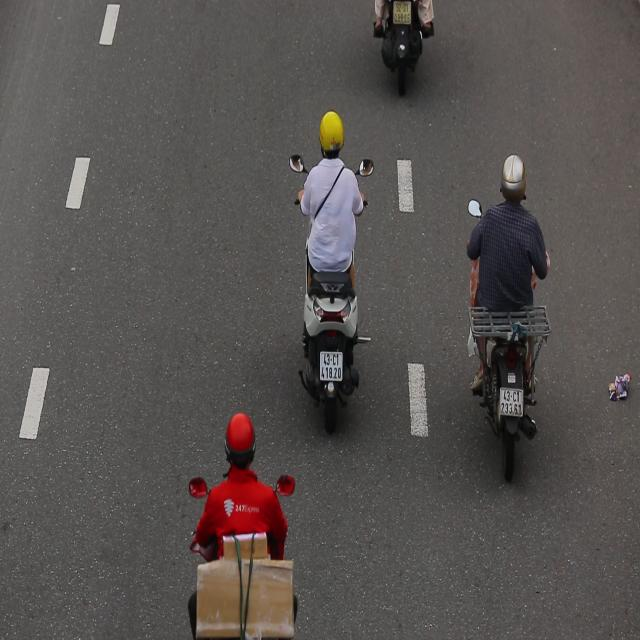motorbike: (275, 103, 386, 439), (462, 128, 554, 488)
